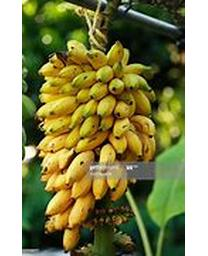banana: (38, 38, 157, 249)
